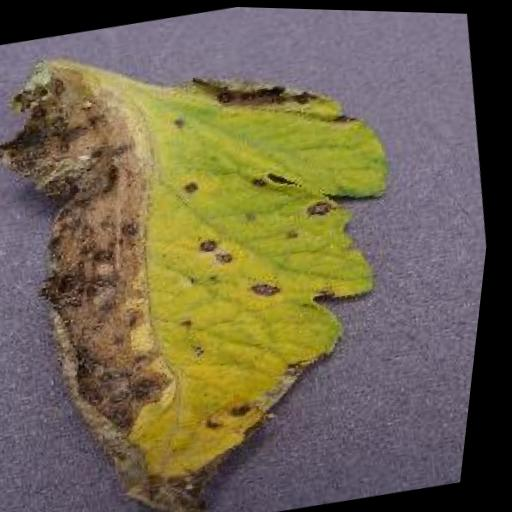Septoria: (0, 0, 466, 512)
